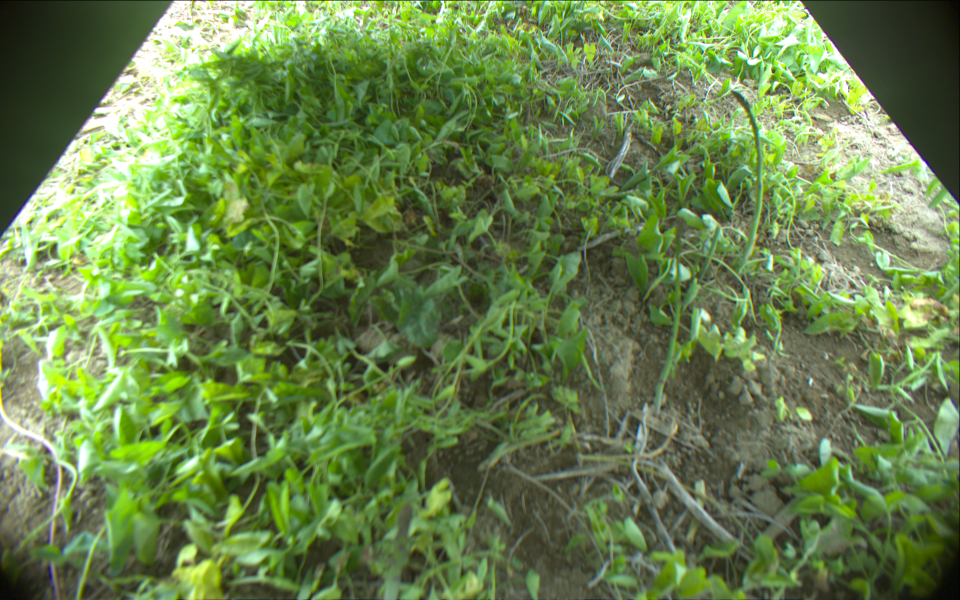aspa: (652, 218, 683, 419), (731, 90, 763, 277), (696, 227, 721, 287)
